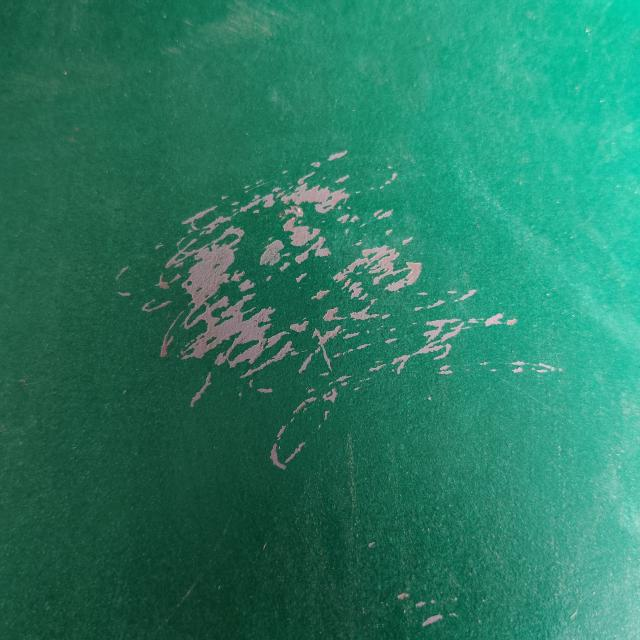paint-off: (126, 113, 535, 486)
